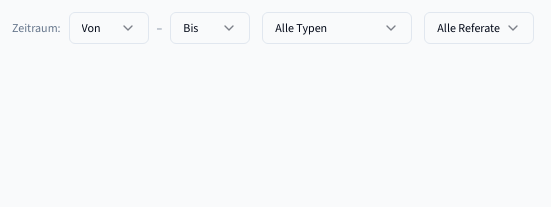
Test: FilterBar › the document type list › offers every type it was given, including the fallback
This screenshot has width=551, height=207.
Click the dropdown named "Dokumenttyp".
click(337, 28)  # box [262, 12, 412, 44]
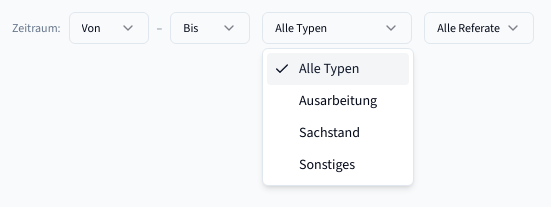
Expected: the option "Ausarbeitung" is shown, [299, 91, 377, 110]
Expected: the option "Sachstand" is shown, [299, 123, 360, 142]
Expected: the option "Sonstiges" is shown, [299, 155, 355, 174]
